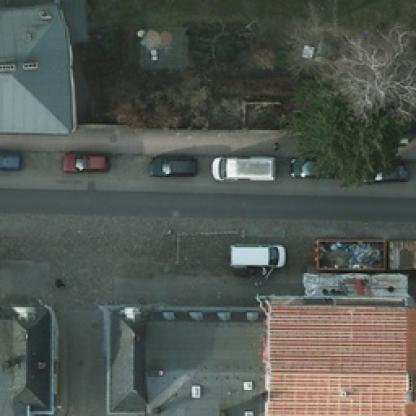car: (289, 152, 343, 180), (146, 153, 198, 177), (356, 159, 410, 182), (60, 150, 107, 172), (0, 148, 21, 169)
van: (210, 152, 276, 180), (230, 246, 283, 268)
